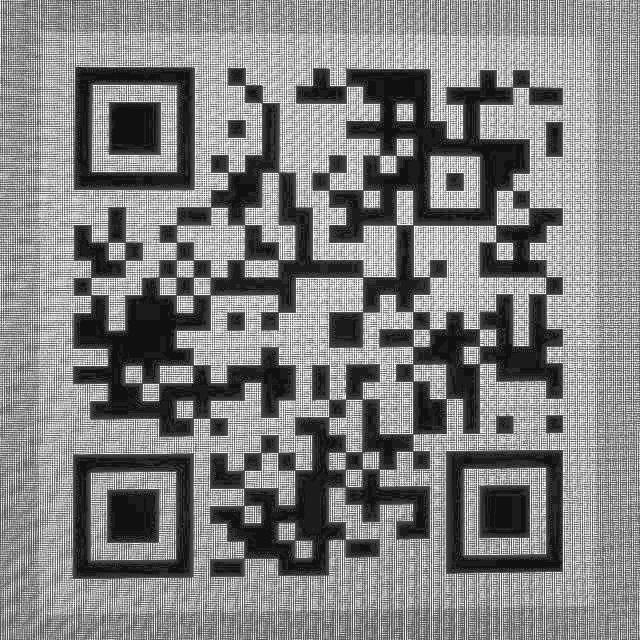qr_code: (46, 39, 594, 604)
